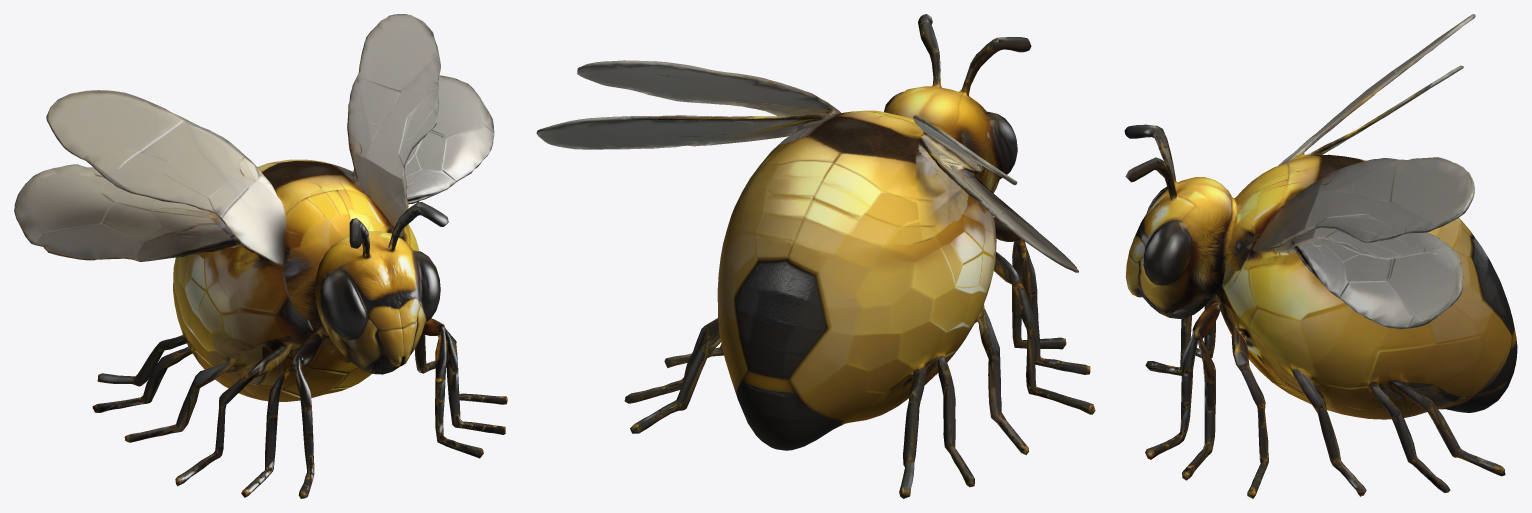
File: enemy_2.glb
3 views of the same model, side by side, from view 1: azimuth 30°, elevation 25°; view 2: azimuth 150°, elevation 25°; view 3: azimuth 270°, elevation 25° (orthographic). The views are drawn at different scales.
Bounding box in the file's own units: 2 × 1.29 × 1.42.
Materials: 1 (1 with a texture image).
